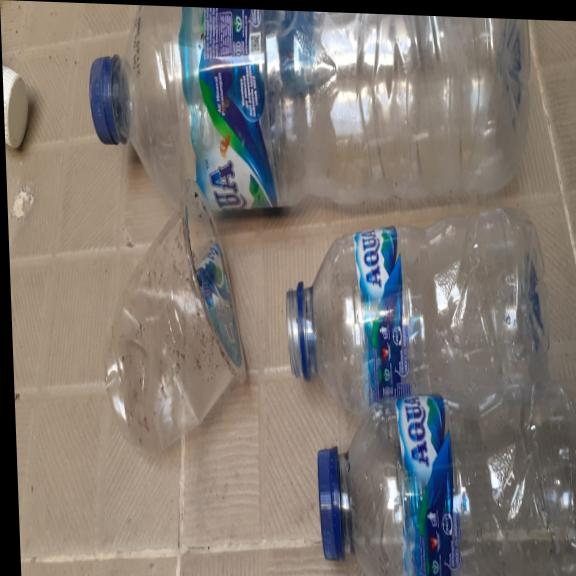Plastik: (82, 3, 536, 218), (282, 203, 553, 416), (316, 397, 576, 576)
